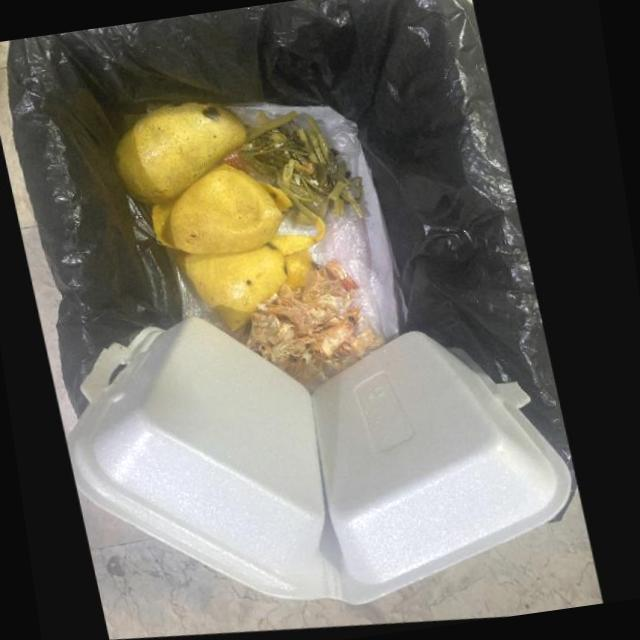thuc_an_thua: (250, 264, 390, 399)
vo_rau_cu: (232, 114, 378, 224)
vo_trai_cay: (180, 220, 334, 337), (123, 107, 256, 211), (158, 169, 301, 260)
xop: (70, 323, 576, 610)
